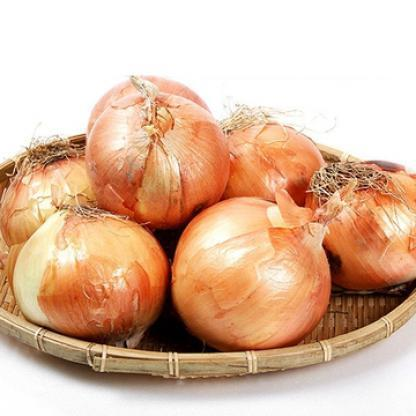onion: (162, 198, 327, 346), (31, 206, 156, 336), (99, 97, 210, 208), (217, 98, 328, 205), (325, 156, 415, 280)
